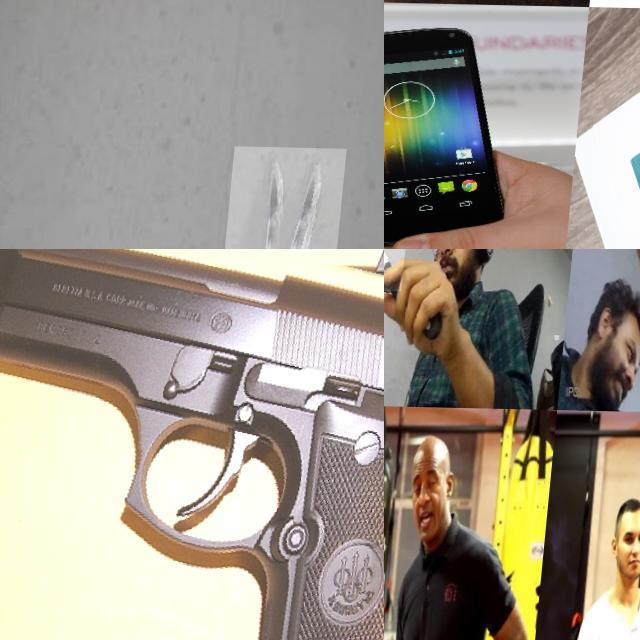-: (204, 144, 350, 249), (384, 249, 422, 290)
gun-knife-thesis - v11 Yolov5 augmented: (0, 249, 384, 640)
